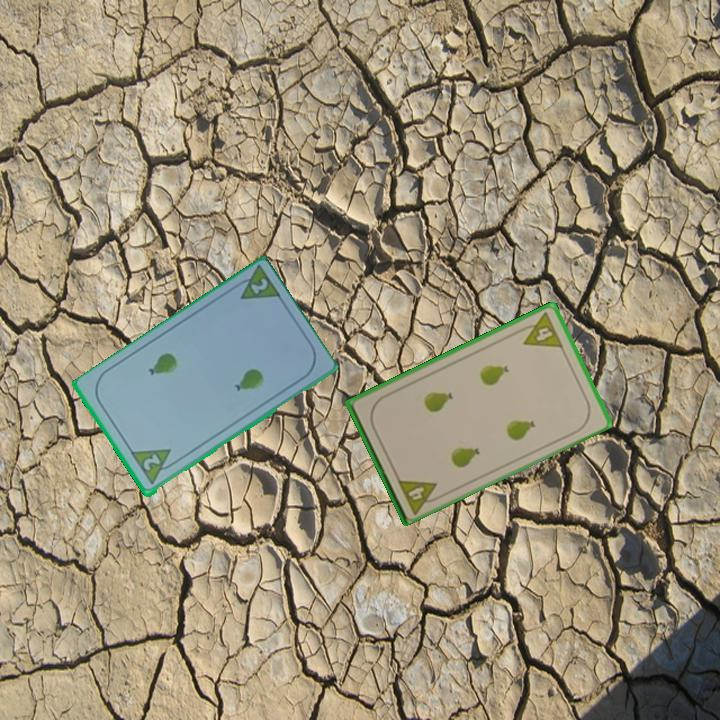2p: (128, 445, 180, 488), (228, 264, 284, 303)
4p: (514, 309, 566, 350), (394, 474, 444, 516)
